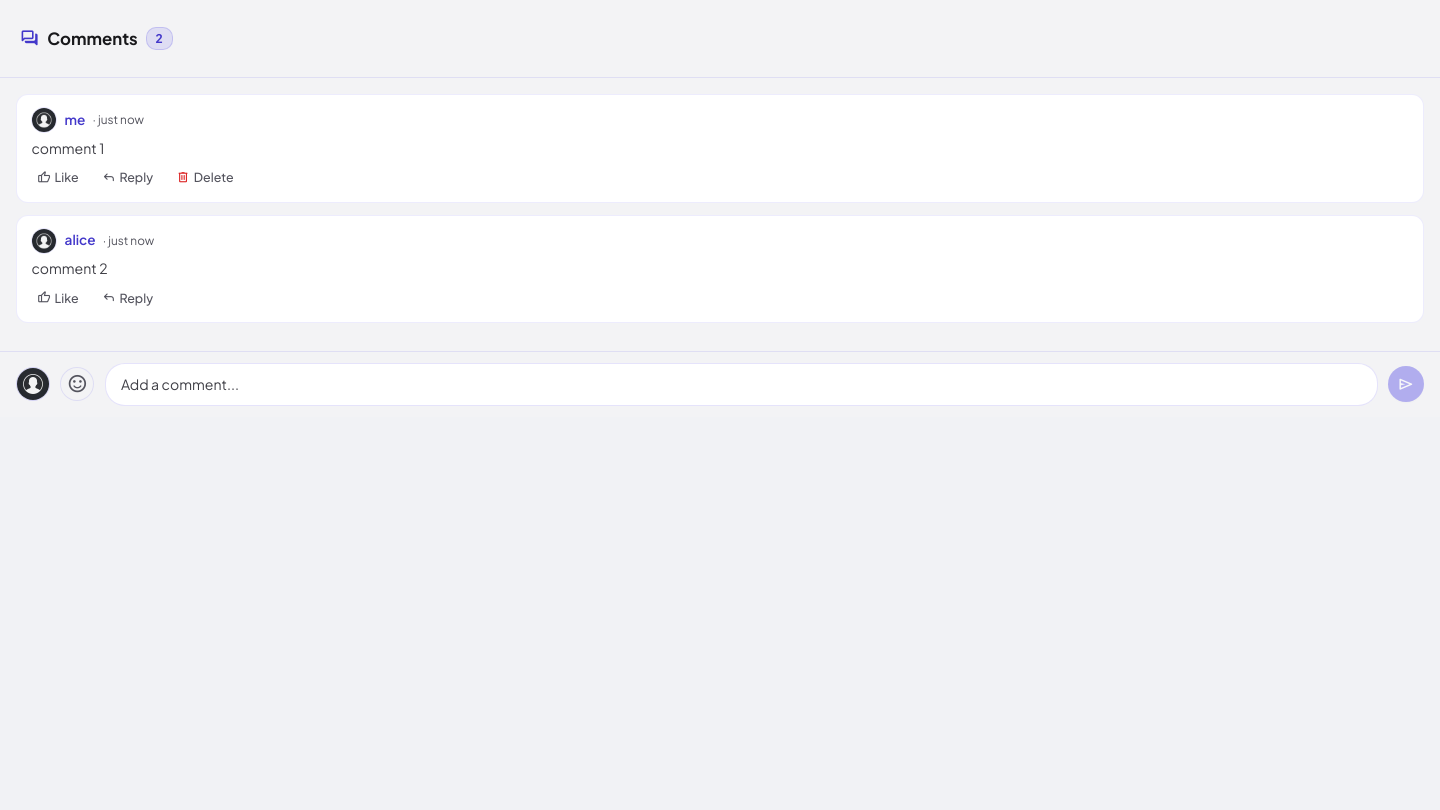
Test: PostCommentsPanel › deleting a comment asks for confirmation, removes it and reports the count
Expected: the text "comment 1" is shown, [31, 139, 104, 157]
What coordinates should you click on to do the following:
click the button with aria-label "delete comment by"
I would click on:
 (205, 178)
Its box is [171, 166, 239, 190].
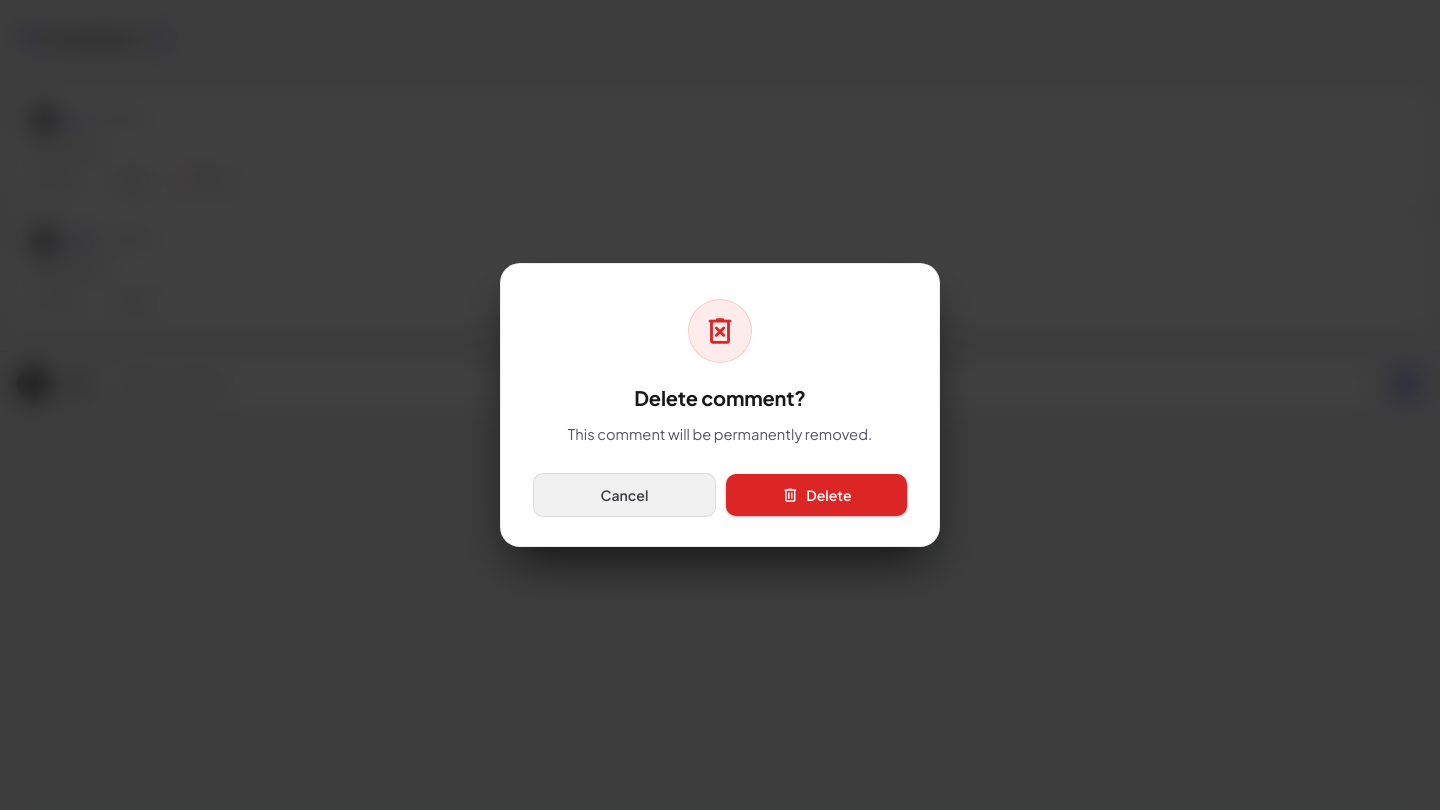
Expected: the dialog shows "Delete comment?", [634, 385, 806, 410]
What coordinates should you click on to do the following:
click the button "Delete"
I would click on:
 (816, 495)
Its box is [726, 474, 907, 516].
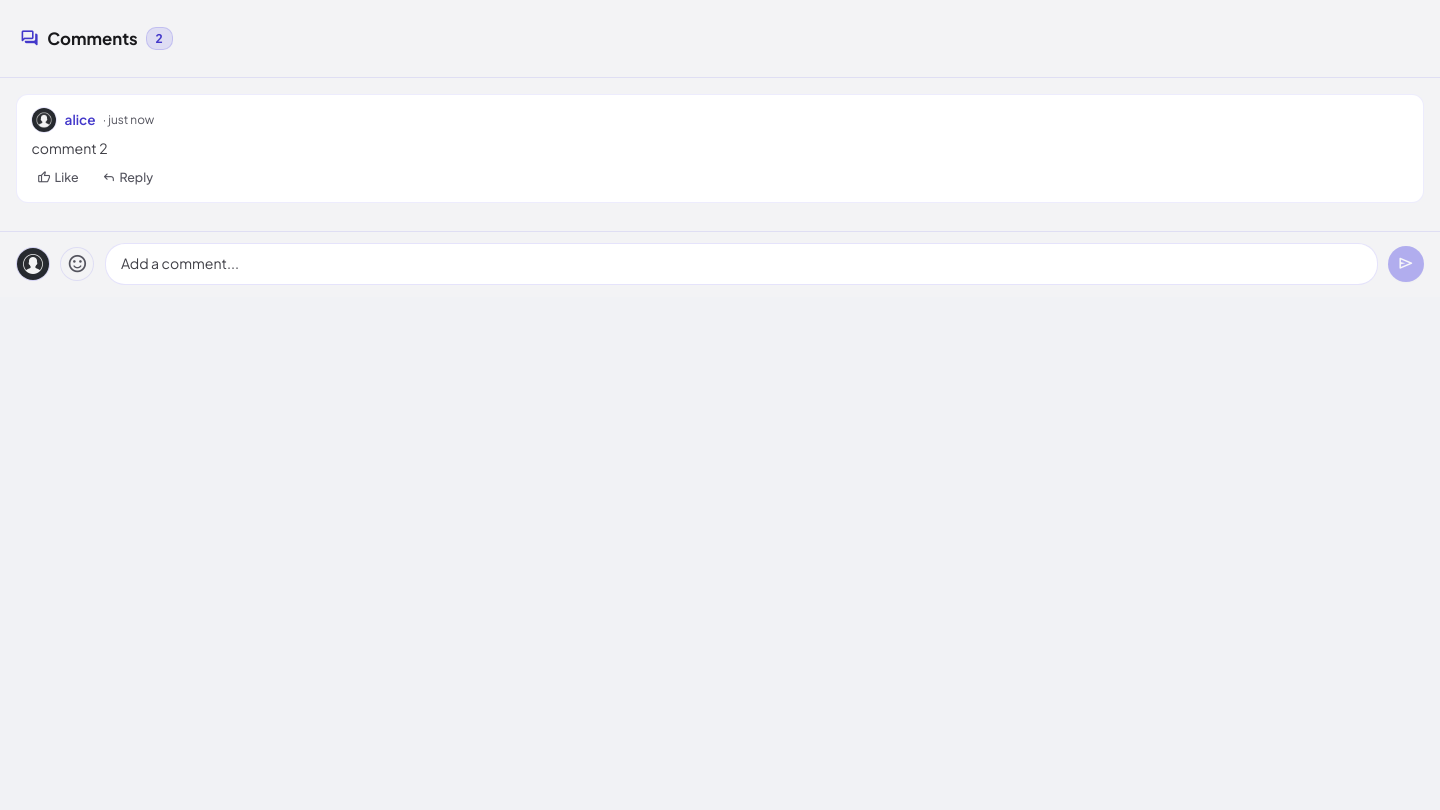
Expected: the text "comment 2" is shown, [31, 139, 108, 157]
Expected: the text "comment 1" is gone
